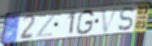1: (67, 11, 76, 36)
2: (19, 13, 37, 42)
G: (75, 9, 96, 36)
S: (117, 6, 136, 32)
V: (100, 6, 120, 34)
Z: (35, 12, 57, 38)
